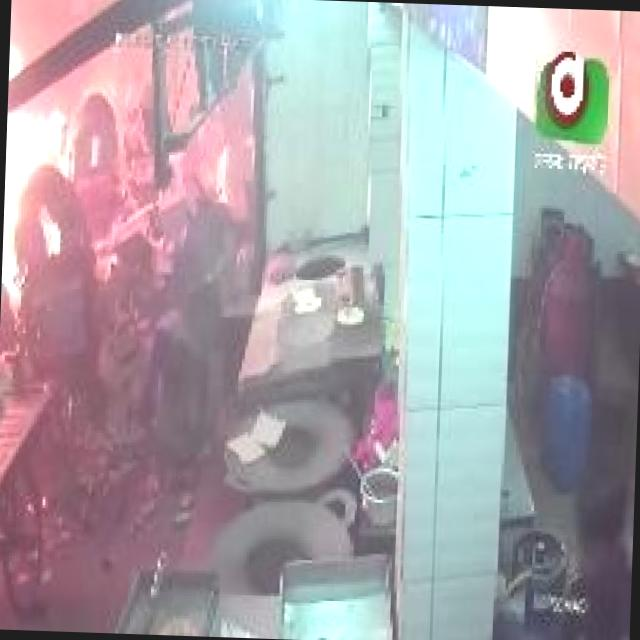fire: (3, 14, 124, 233)
